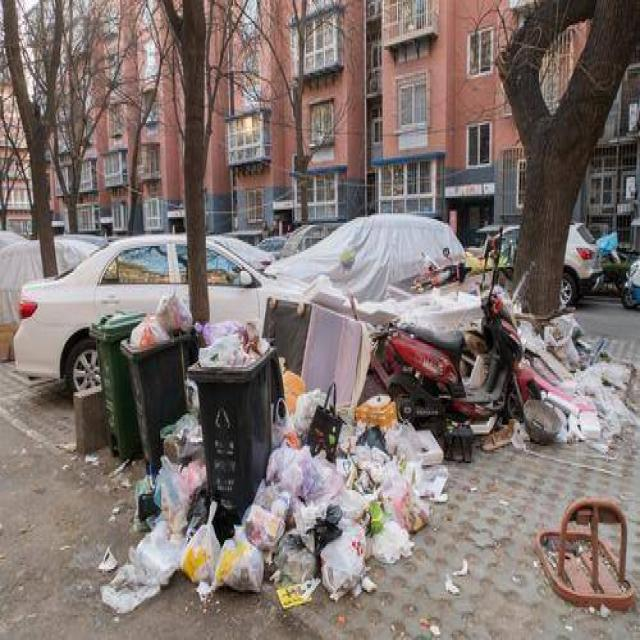garbage: (99, 369, 444, 621)
garbage_bin: (88, 312, 141, 456)
overflow: (186, 319, 286, 515), (119, 292, 189, 467)
